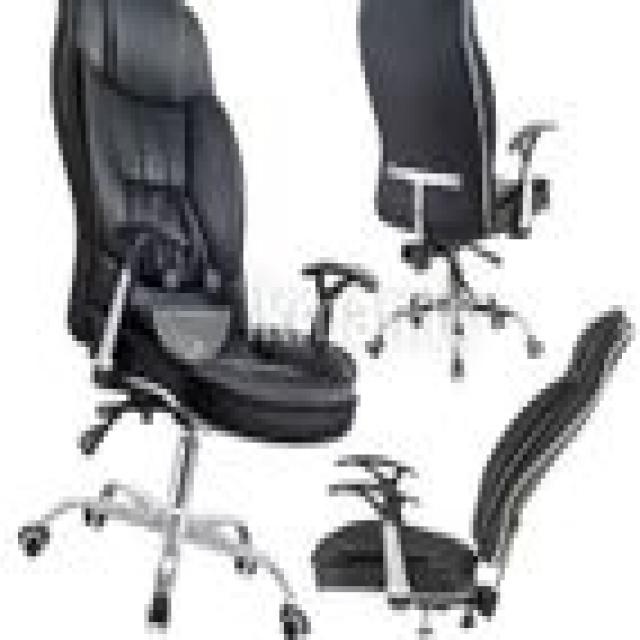others: (36, 6, 636, 640)
